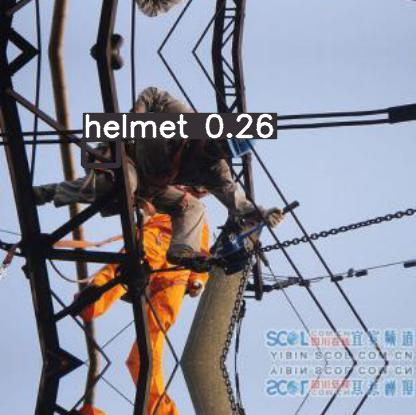helmet: (83, 138, 118, 165)
